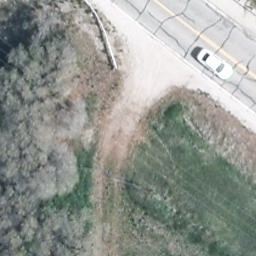car: (197, 48, 237, 81)
